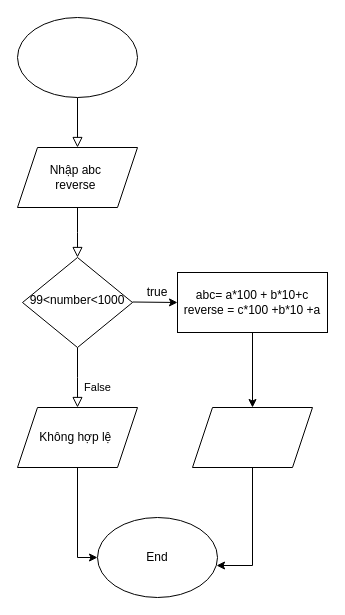
This 345x615 diagram has some shape labels left out. Here are the shapes that lost their labels. From the top down, the box of each, then its label:
(16, 16, 138, 98): Start
(192, 406, 312, 468): in ra reverse
